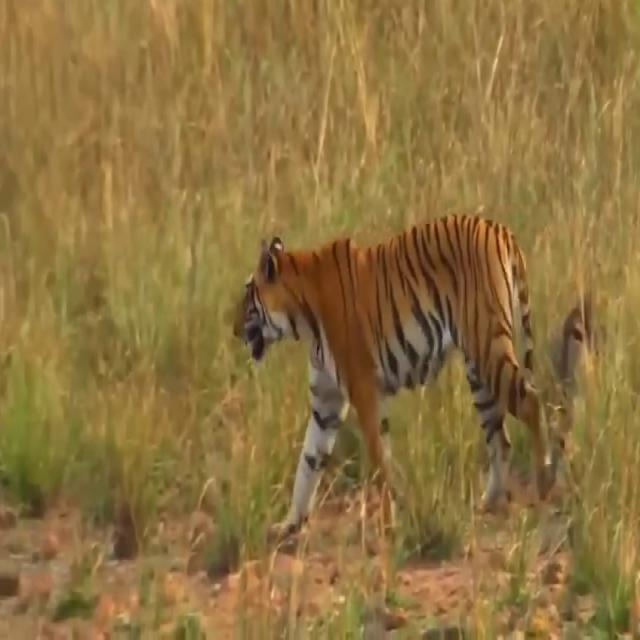tiger: (233, 212, 556, 548)
